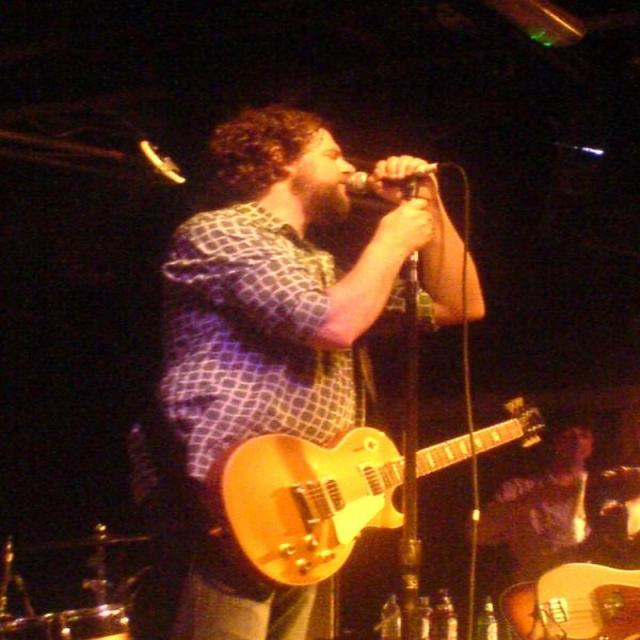guitar: (208, 428, 404, 585)
